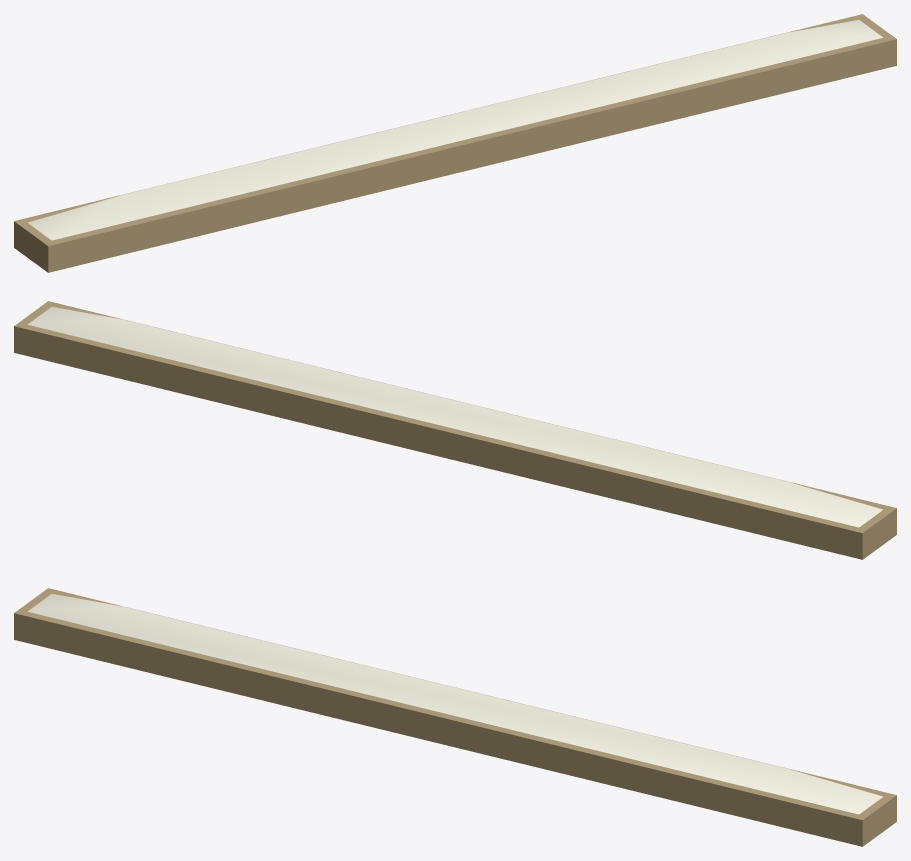
The model's file is Structure_02.fbx.
3 renders of one model, top to bottom at view 1: azimuth 30°, elevation 25°; view 2: azimuth 150°, elevation 25°; view 3: azimuth 330°, elevation 25°, orthographic.
Parts seen in each view (by area): view 1: Box002; view 2: Box002; view 3: Box002.
Boxes of the visible parts, left/top/right/bottom form: Box002: left=14, top=14, right=896, bottom=272; Box002: left=14, top=301, right=896, bottom=559; Box002: left=14, top=588, right=896, bottom=846.
Bounding box in the file's own units: 100 × 4.86 × 7.
